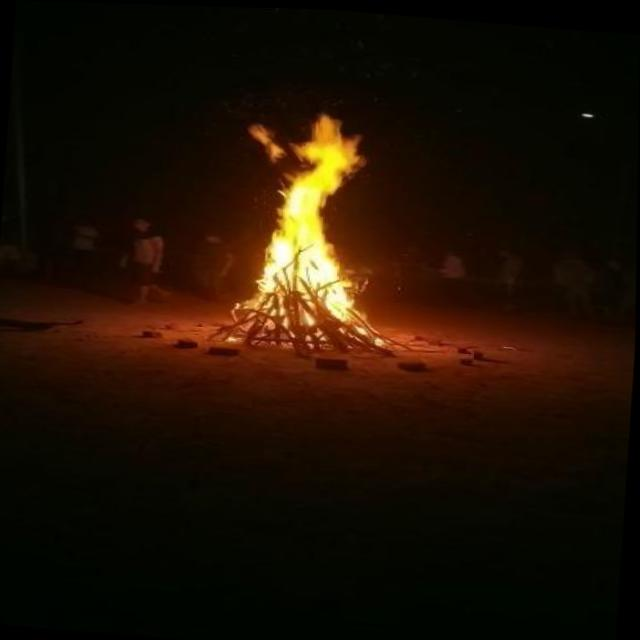fire: (217, 97, 399, 324)
